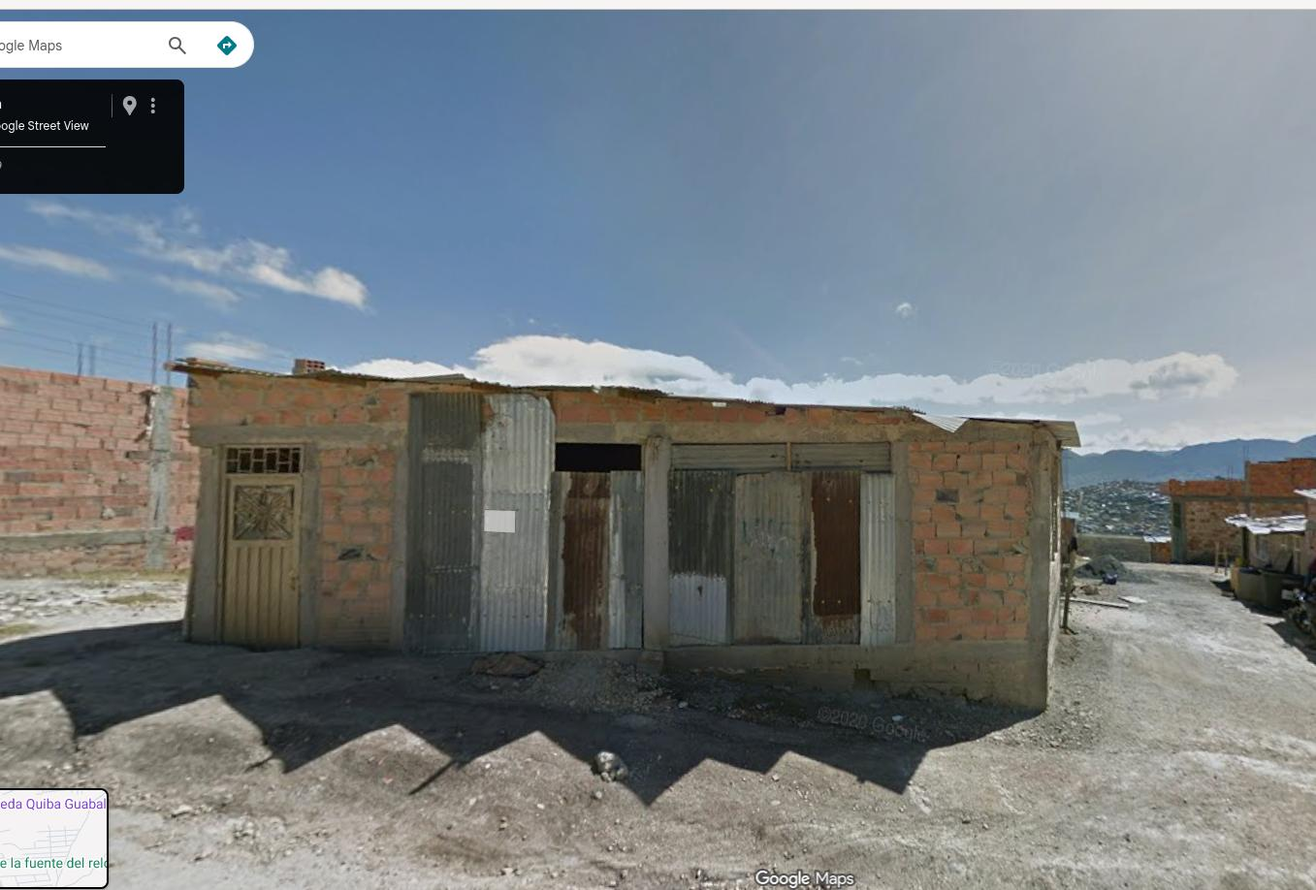casa: (171, 359, 1080, 703)
